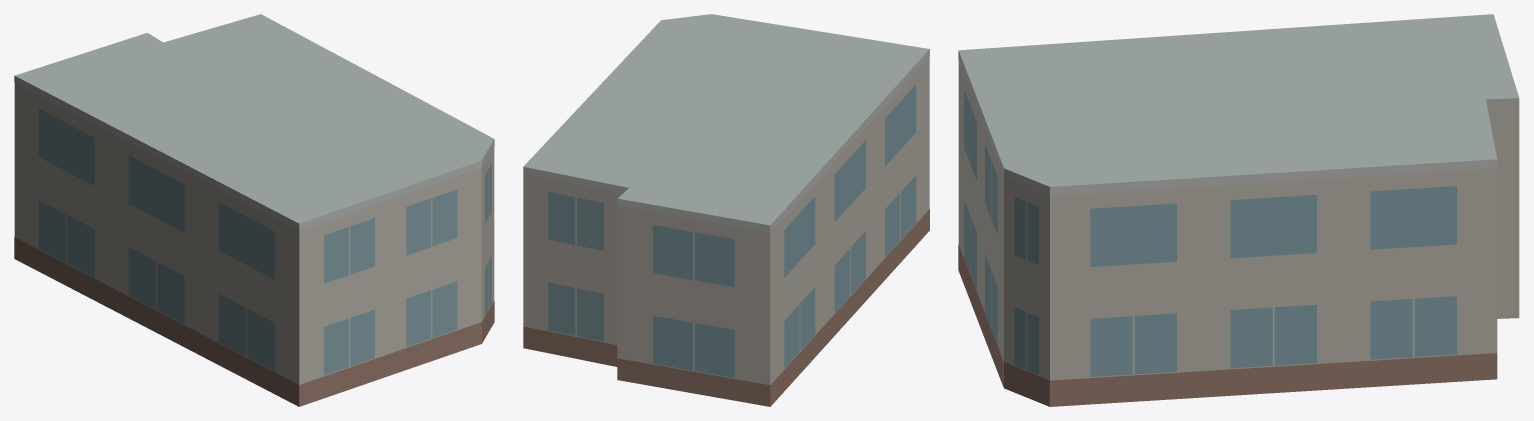
File: survey-upis-32732514.glb
3 views of the same model, side by side, from view 1: azimuth 30°, elevation 25°; view 2: azimuth 150°, elevation 25°; view 3: azimuth 270°, elevation 25° (orthographic). The views are drawn at different scales.
Parts seen in each view (by area): view 1: survey-upis-32732514.tmp; view 2: survey-upis-32732514.tmp; view 3: survey-upis-32732514.tmp.
Boxes of the visible parts, x1,y1,x2,y2 form: survey-upis-32732514.tmp: (14,14,494,406); survey-upis-32732514.tmp: (523,14,929,406); survey-upis-32732514.tmp: (958,14,1519,406).
Size of the model in its own units: 10.29 by 6.1 by 14.11.
